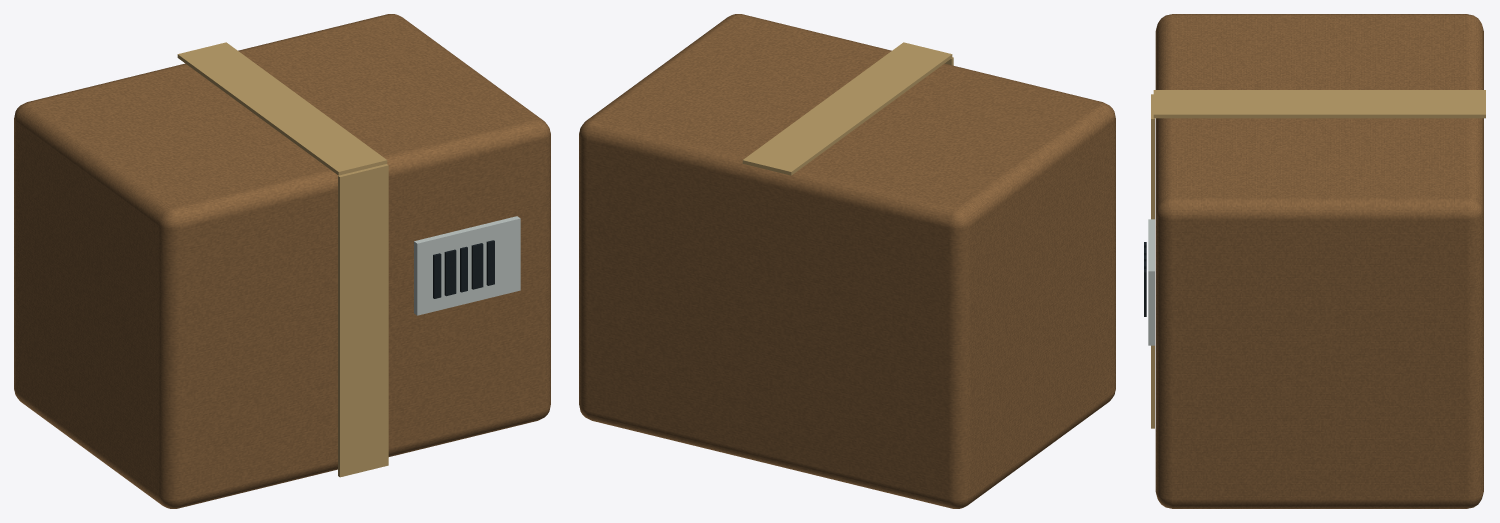
3 views of the same model, side by side, from view 1: azimuth 30°, elevation 25°; view 2: azimuth 150°, elevation 25°; view 3: azimuth 270°, elevation 25° (orthographic). The views are drawn at different scales.
Parts seen in each view (by area): view 1: corrugated_cardboard_0002, packing_tape_front_0004, packing_tape_top_0003, identification_plate_0005; view 2: corrugated_cardboard_0002, packing_tape_top_0003; view 3: corrugated_cardboard_0002, packing_tape_top_0003, identification_plate_0005, packing_tape_front_0004.
Boxes of the visible parts, left/top/right/bottom form: corrugated_cardboard_0002: left=14, top=14, right=550, bottom=508; packing_tape_front_0004: left=338, top=164, right=388, bottom=477; packing_tape_top_0003: left=177, top=42, right=387, bottom=175; identification_plate_0005: left=414, top=216, right=520, bottom=315; corrugated_cardboard_0002: left=579, top=14, right=1115, bottom=508; packing_tape_top_0003: left=742, top=42, right=952, bottom=175; corrugated_cardboard_0002: left=1155, top=14, right=1483, bottom=508; packing_tape_top_0003: left=1153, top=90, right=1485, bottom=118; identification_plate_0005: left=1148, top=219, right=1154, bottom=345; packing_tape_front_0004: left=1151, top=94, right=1154, bottom=428.
Size of the model in its own units: 0.68 by 0.507 by 0.5.
4 materials, 2 textured.
